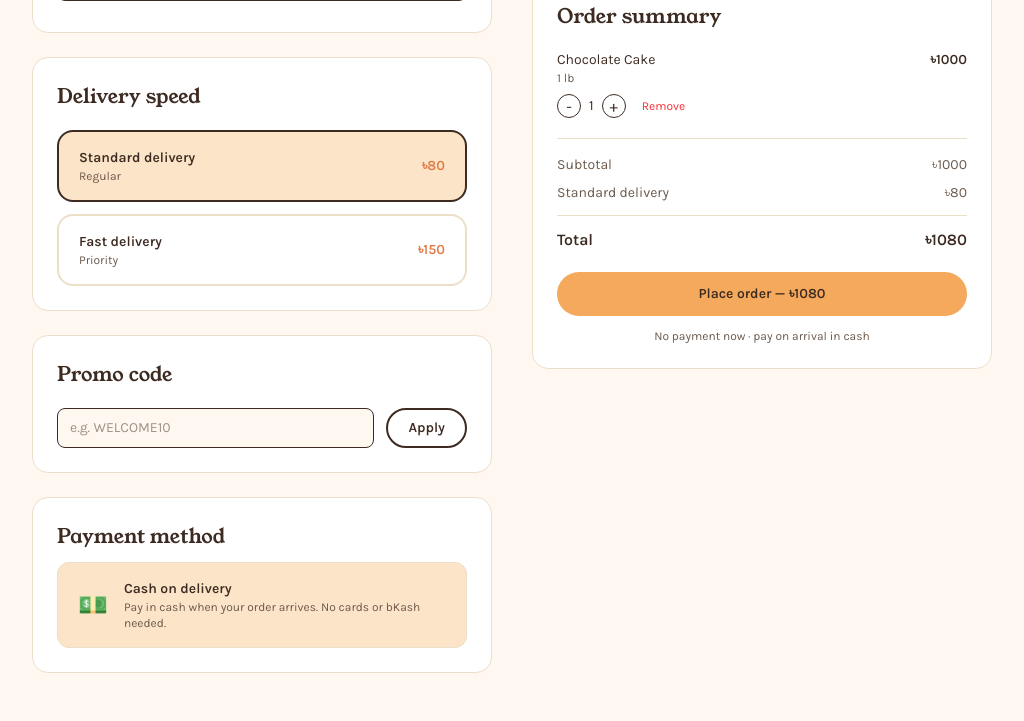
it: CheckoutPage - negative tests › handles invalid promo codes
(page scrolled)
Type "badcode" into the field with placeholder "e.g. WELCOME10" at point(216, 428), box [57,408,374,448]
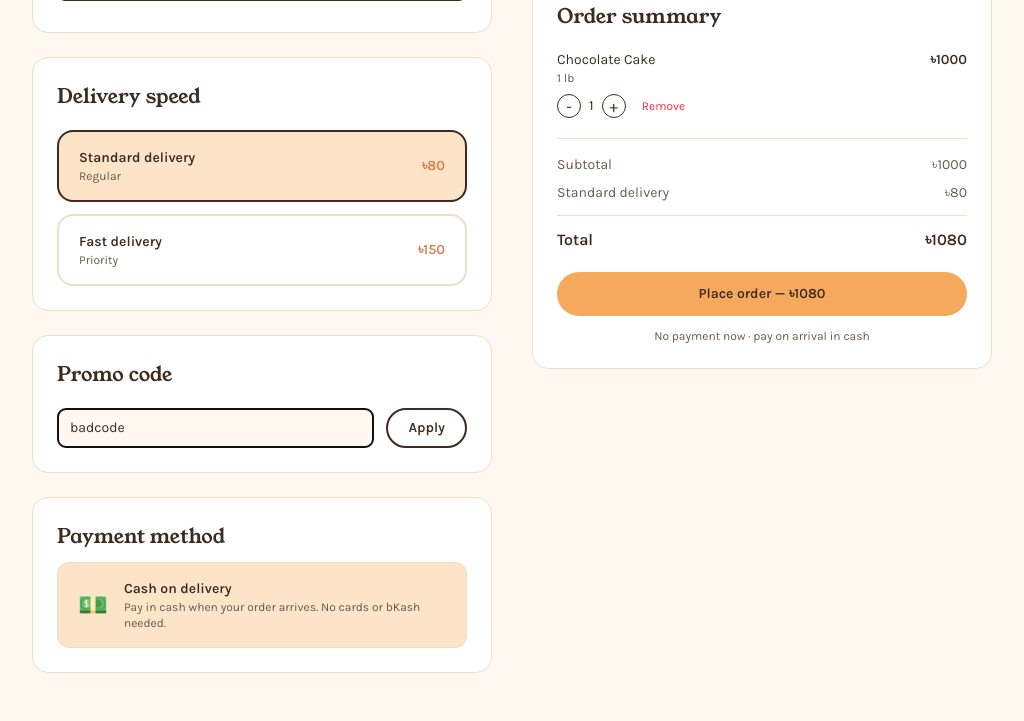
Click the button "Apply" at point(427, 428), box [386,408,467,448]
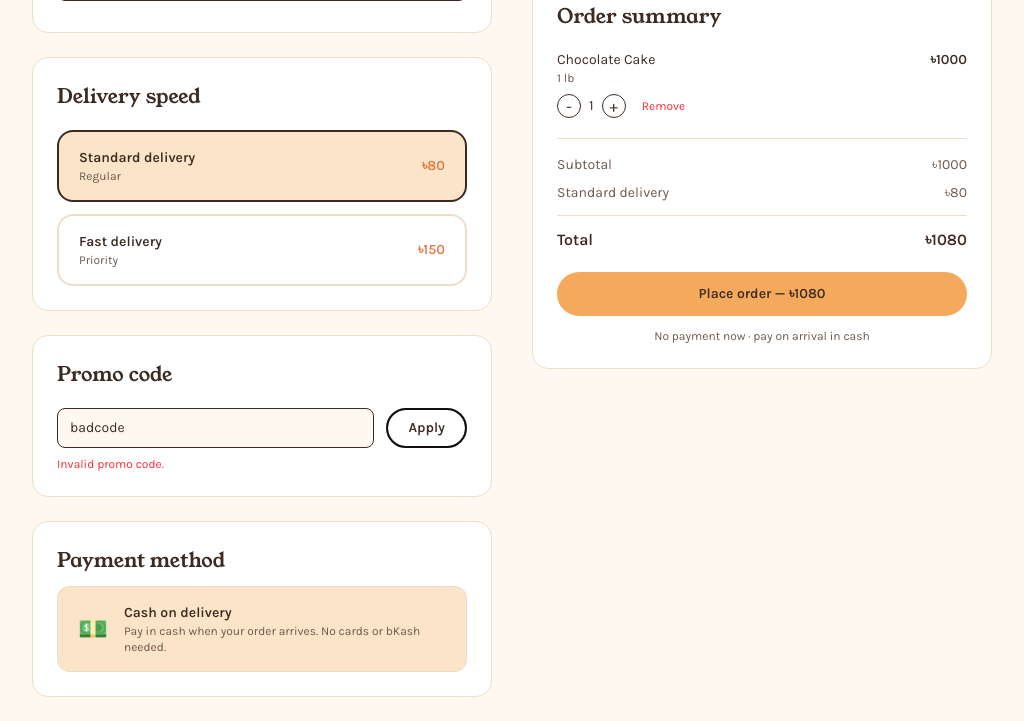
Now the text "Invalid promo code." is shown, box [57,457,164,471]
